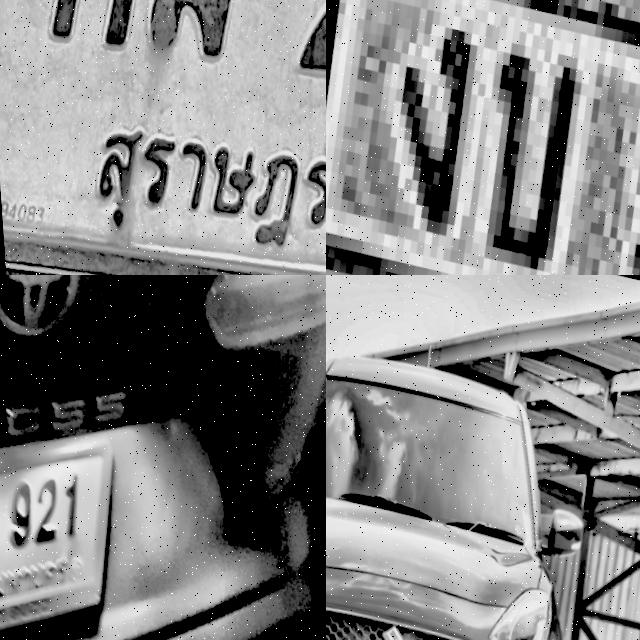license-plate: (0, 0, 326, 275), (326, 0, 640, 275), (0, 377, 135, 640)
